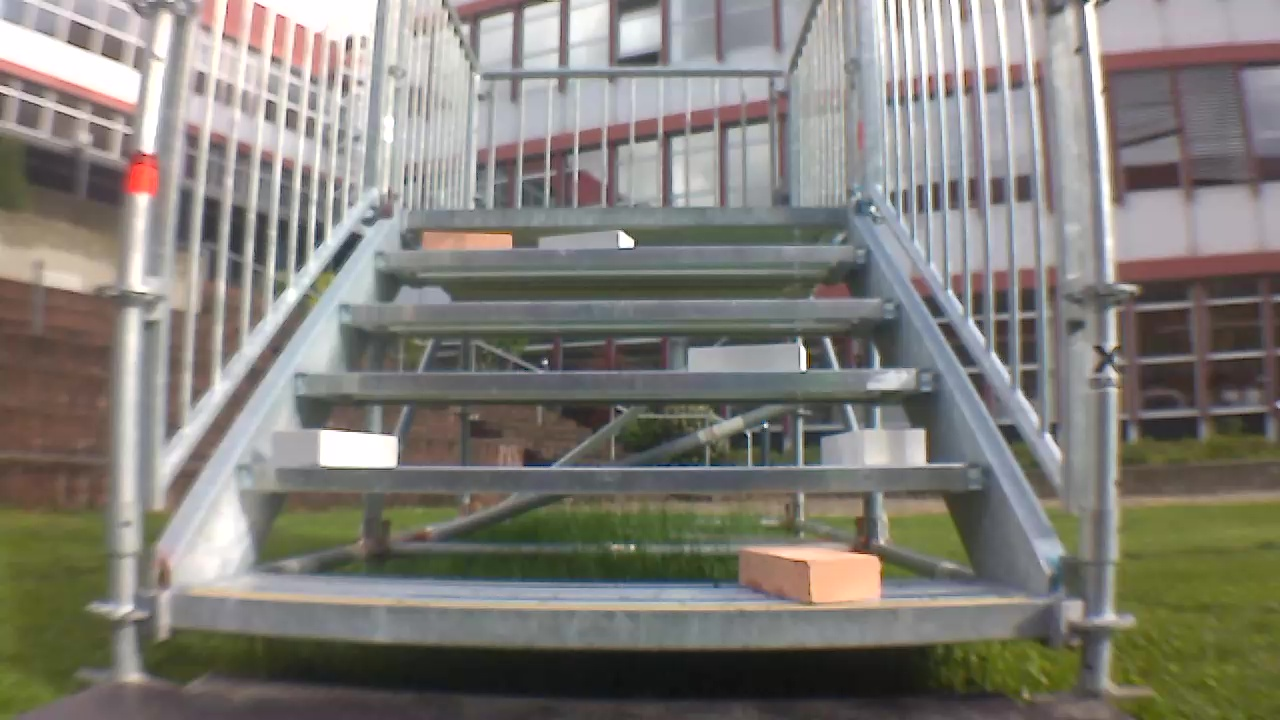brick: (740, 548, 880, 602), (271, 430, 397, 465), (821, 429, 926, 464), (690, 344, 806, 371), (539, 231, 633, 248), (424, 233, 511, 249)
edge: (171, 593, 1050, 648), (236, 462, 990, 494), (297, 367, 936, 396), (338, 297, 898, 321), (377, 245, 874, 267), (406, 206, 853, 226)
stairs: (79, 3, 1135, 701)
steps: (162, 202, 1060, 657)
